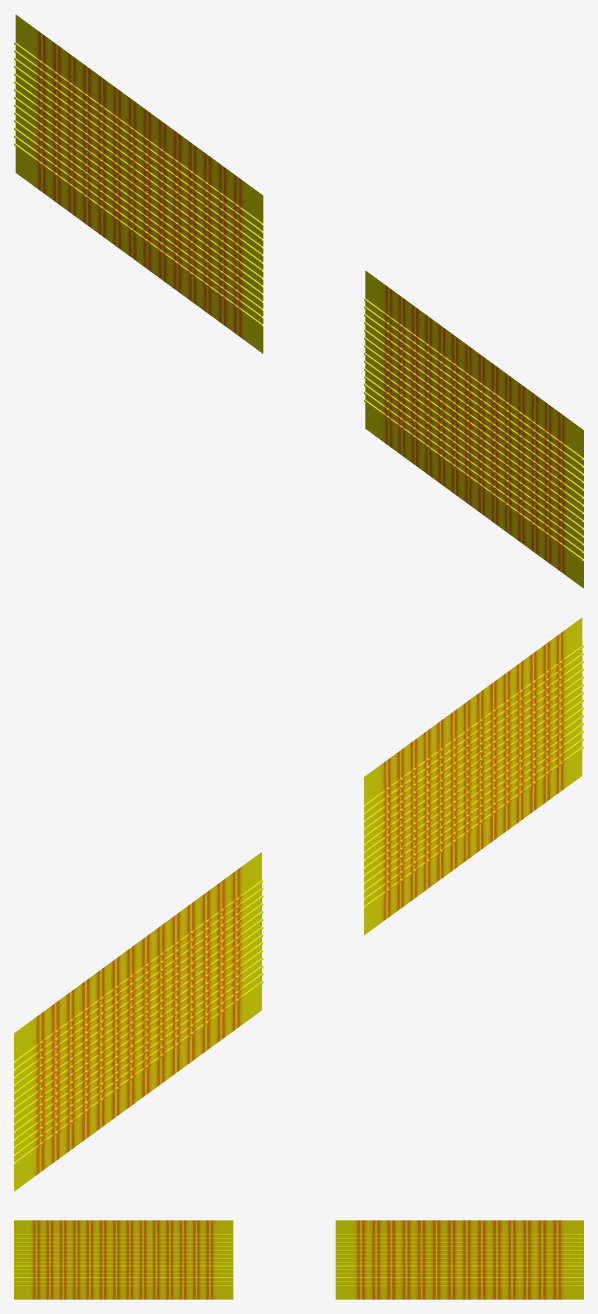
File: RB_Walls_3.fbx
3 renders of one model, top to bottom at view 1: azimuth 30°, elevation 25°; view 2: azimuth 150°, elevation 25°; view 3: azimuth 270°, elevation 25°, orthographic. The views are drawn at different scales.
Parts seen in each view (by area): view 1: beam_0.5x2_Cube.366_beam_0.5x2_Cube.013; view 2: beam_0.5x2_Cube.366_beam_0.5x2_Cube.013; view 3: beam_0.5x2_Cube.366_beam_0.5x2_Cube.013.
Part boxes in pixels (x1=…): beam_0.5x2_Cube.366_beam_0.5x2_Cube.013: x1=14, y1=14, x2=583, y2=588; beam_0.5x2_Cube.366_beam_0.5x2_Cube.013: x1=14, y1=617, x2=583, y2=1191; beam_0.5x2_Cube.366_beam_0.5x2_Cube.013: x1=14, y1=1220, x2=583, y2=1299.
Bounding box in the file's own units: 3 × 300 × 1950.
